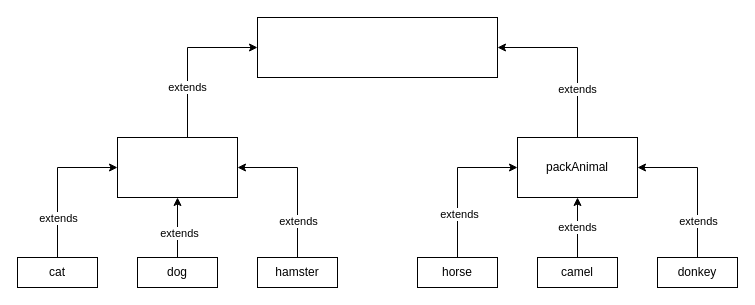
The diagram is 755 pixels wide and 305 high, and some of its shapes have lost their labels. Here are the shapes that lost their labels. From the top down, the box of each, then its label:
(256, 16, 498, 78): public abstract class Animal
(116, 136, 238, 198): pets
